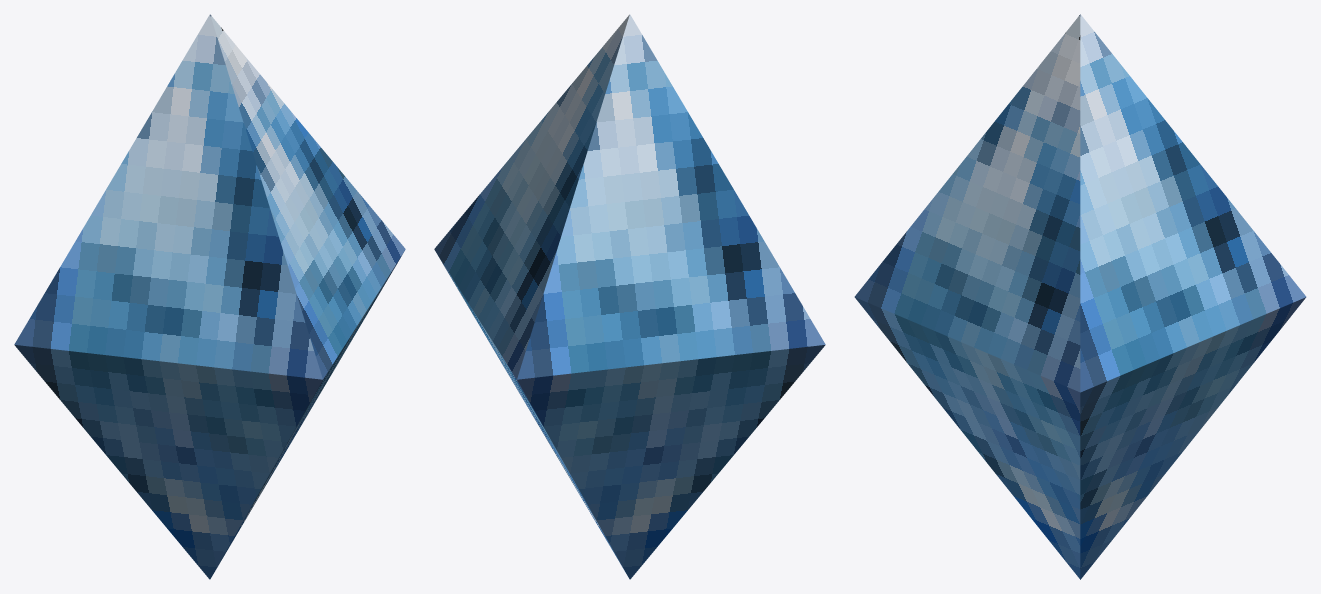
The model's file is Jewel.glb.
3 views of the same model, side by side, from view 1: azimuth 30°, elevation 25°; view 2: azimuth 150°, elevation 25°; view 3: azimuth 270°, elevation 25° (orthographic).
Visible parts, largest first — view 1: JewelModel; view 2: JewelModel; view 3: JewelModel.
Part boxes in pixels (left/top/right/bottom): JewelModel: left=14, top=14, right=405, bottom=579; JewelModel: left=434, top=14, right=825, bottom=579; JewelModel: left=854, top=14, right=1306, bottom=579.
Bounding box in the file's own units: 1.2 × 1.66 × 1.2.
1 material, 1 textured.
